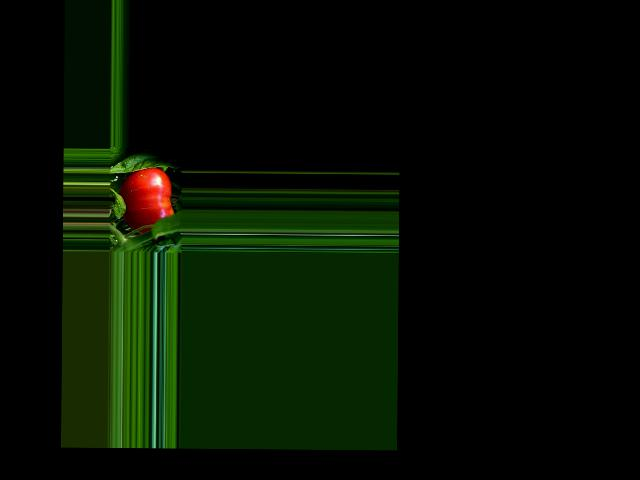tomato: (119, 166, 174, 234)
